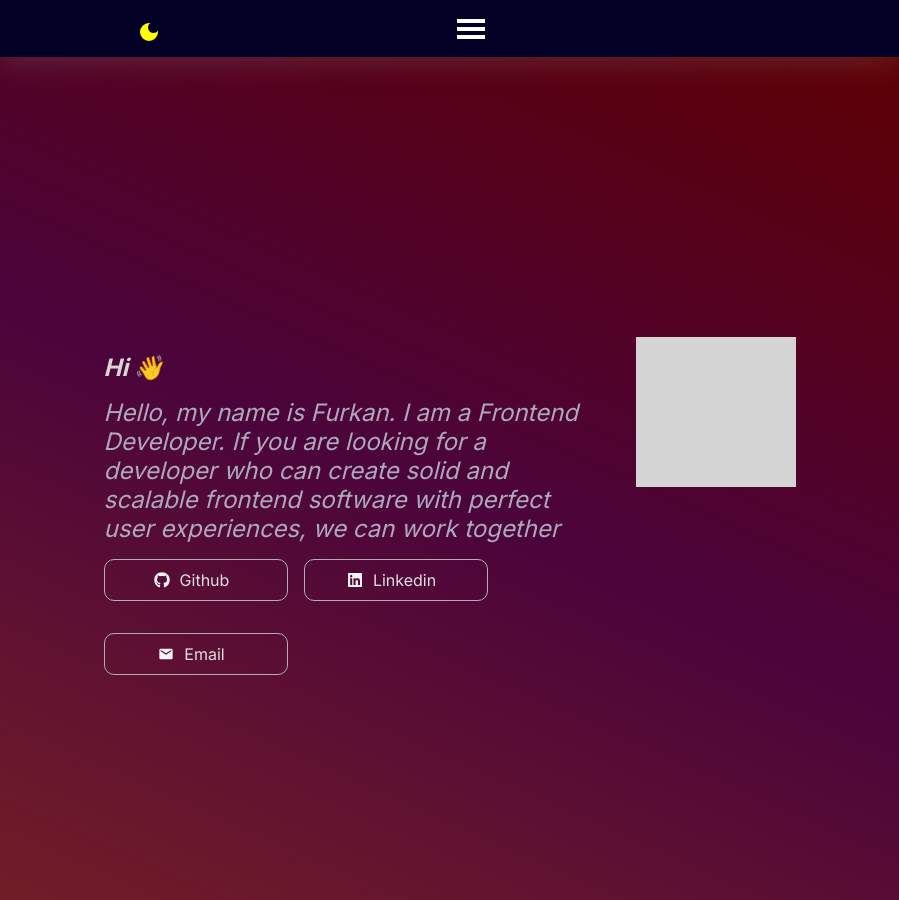
Test: Hamburger Menu Test › Hamburger Menu Click Close Test 2
This screenshot has width=899, height=900.
Step 1. Click the 2nd icon → (472, 29), box [456,13,488,45]
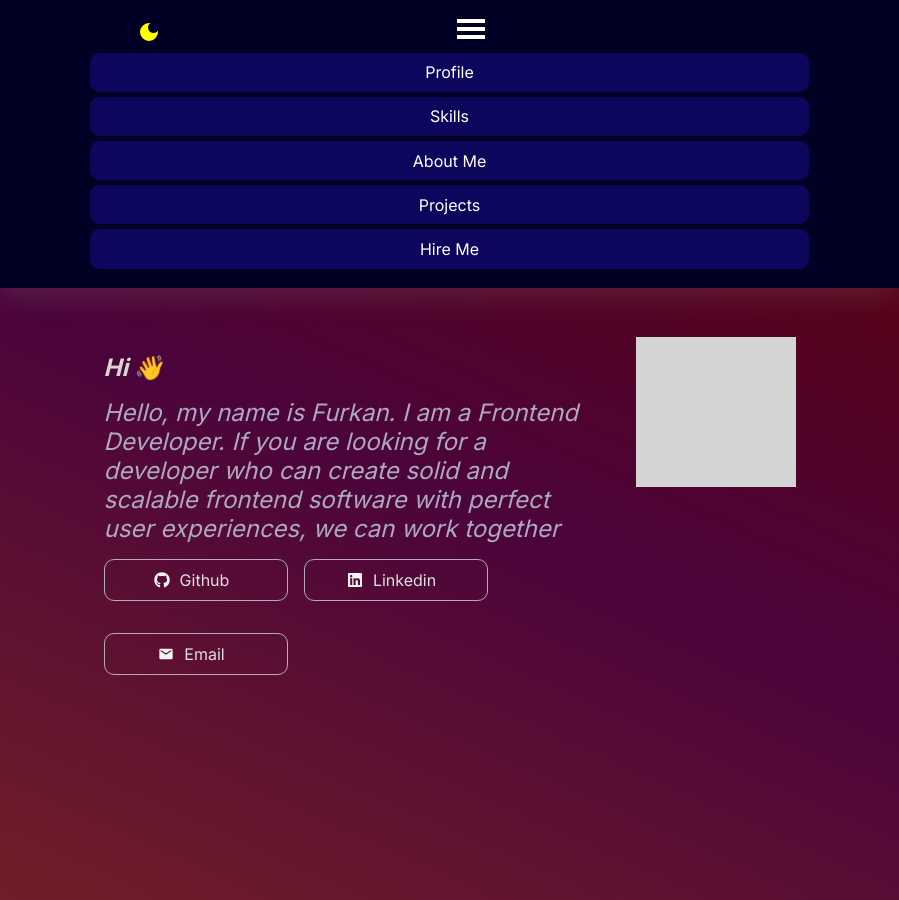
Step 2. Click the 2nd icon → (472, 29), box [456,13,488,45]
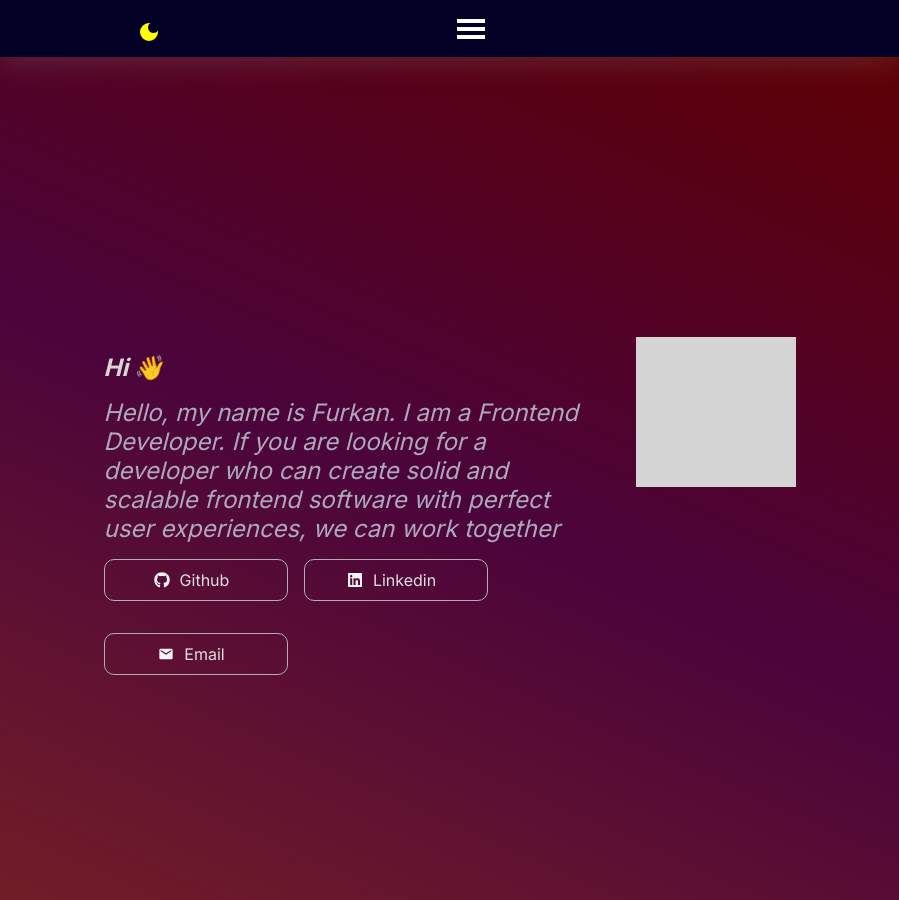
Step 3. Click the 2nd icon → (472, 29), box [456,13,488,45]
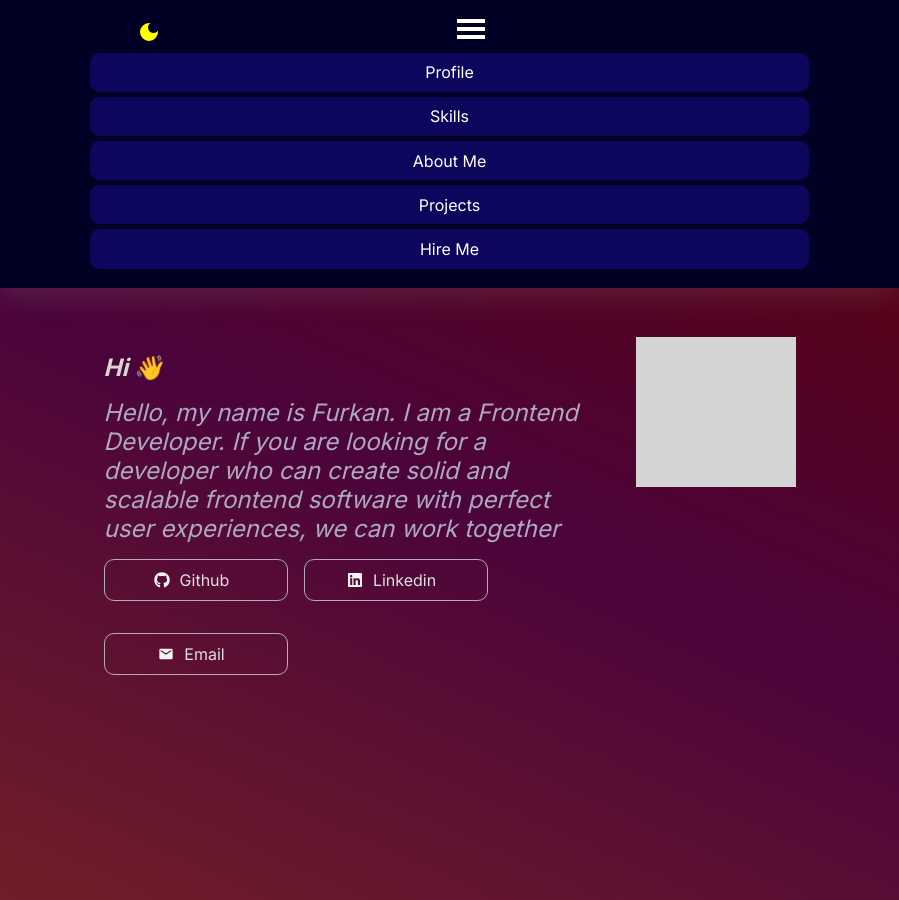
Check: the element showing "Profile Skills About Me Projects Hire Me" is shown, box [90,53,809,268]
